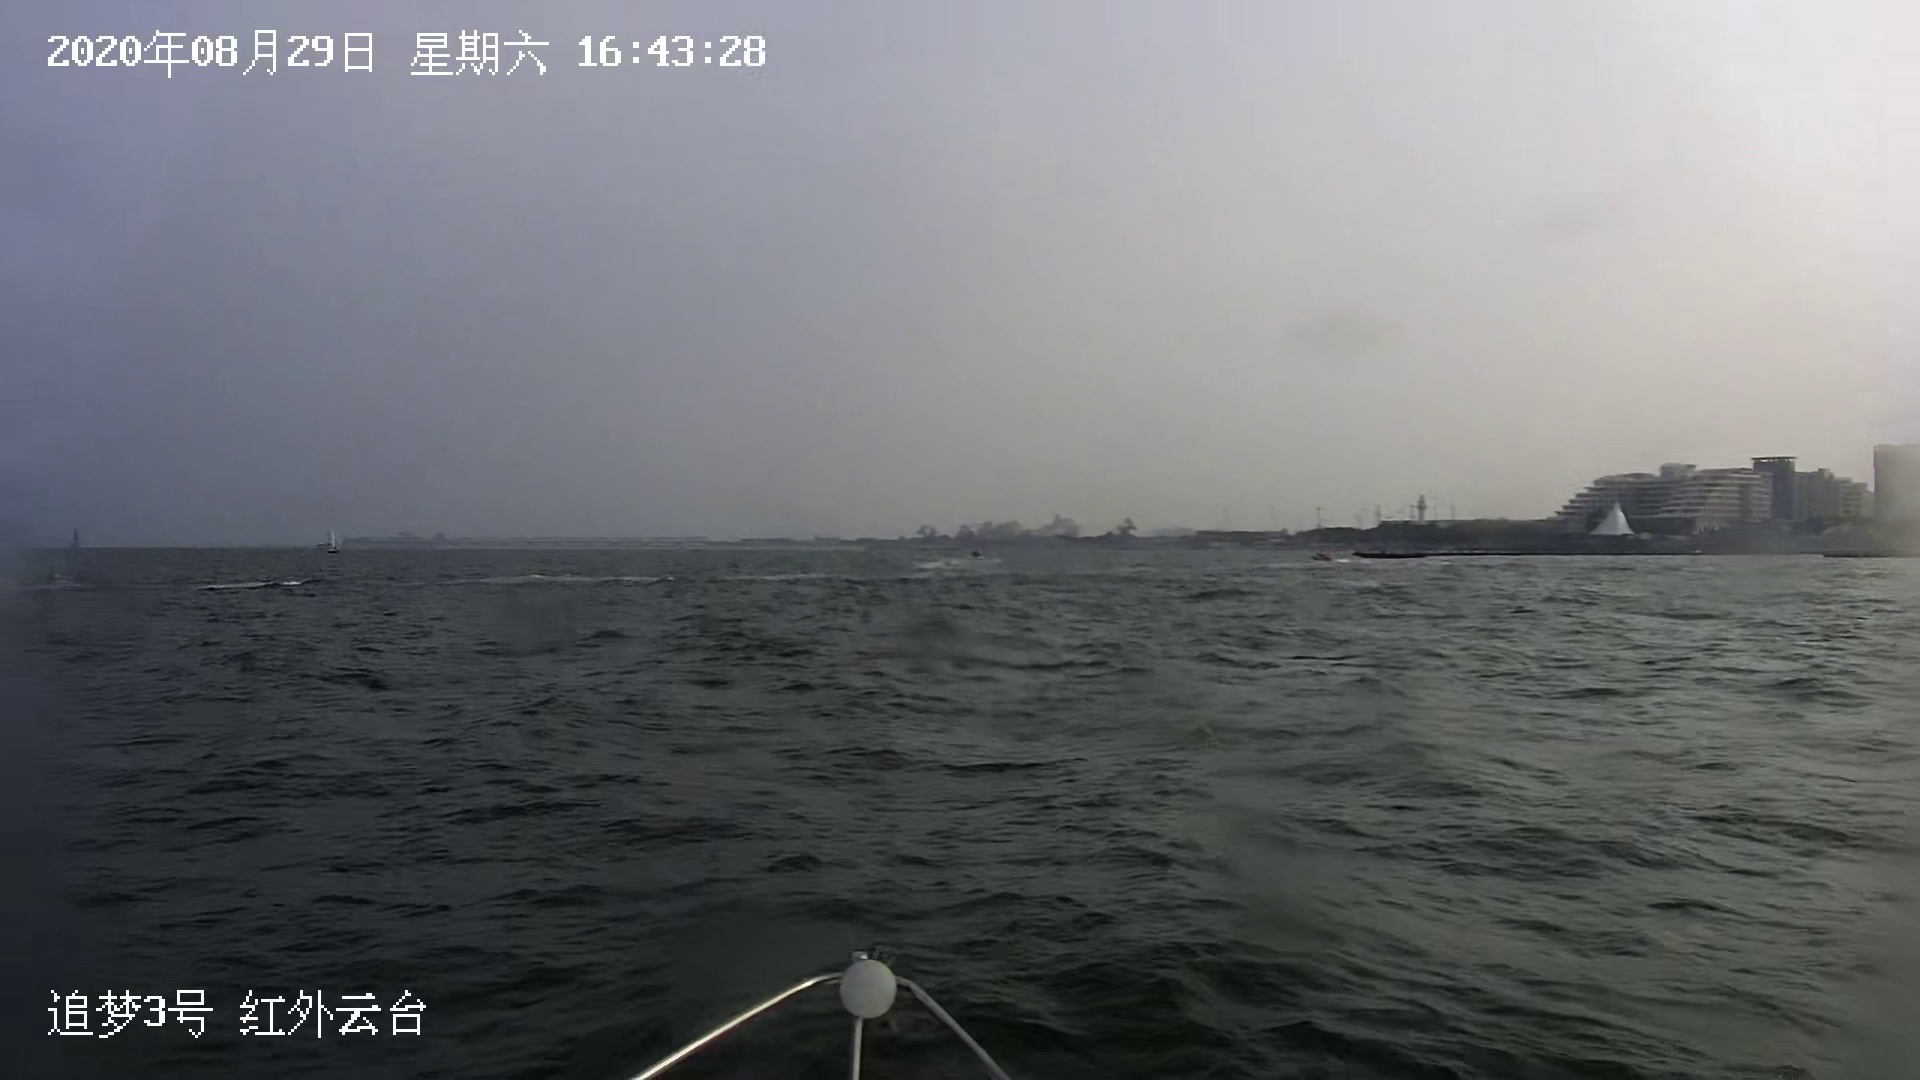barrier: (324, 531, 342, 554)
coast: (309, 438, 1920, 566)
